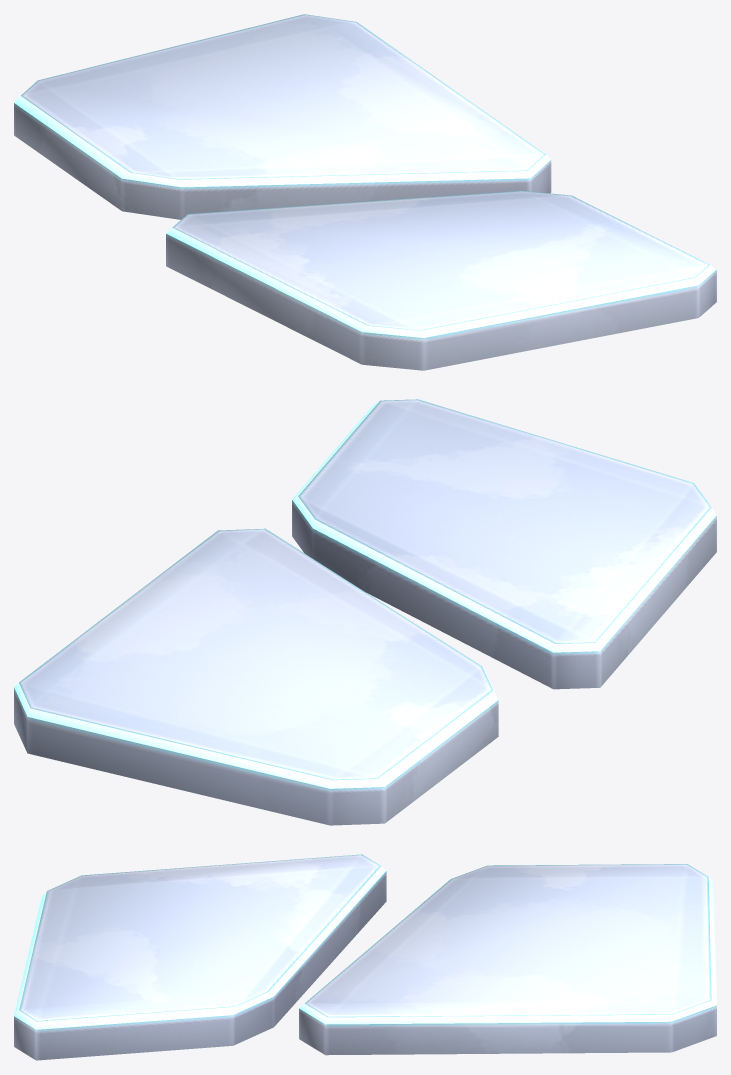
The model's file is obj_tile02.gltf.
3 renders of one model, top to bottom at view 1: azimuth 30°, elevation 25°; view 2: azimuth 150°, elevation 25°; view 3: azimuth 270°, elevation 25°, orthographic. The views are drawn at different scales.
Parts seen in each view (by area): view 1: obj_tile02; view 2: obj_tile02; view 3: obj_tile02.
Part boxes in pixels (x1,y1,x2,y2): obj_tile02: [14, 14, 716, 370]; obj_tile02: [14, 399, 716, 825]; obj_tile02: [14, 854, 716, 1060].
Size of what is drawn, in the model's own units: 0.8482 by 0.0825 by 1.46.
2 materials, 1 textured.
